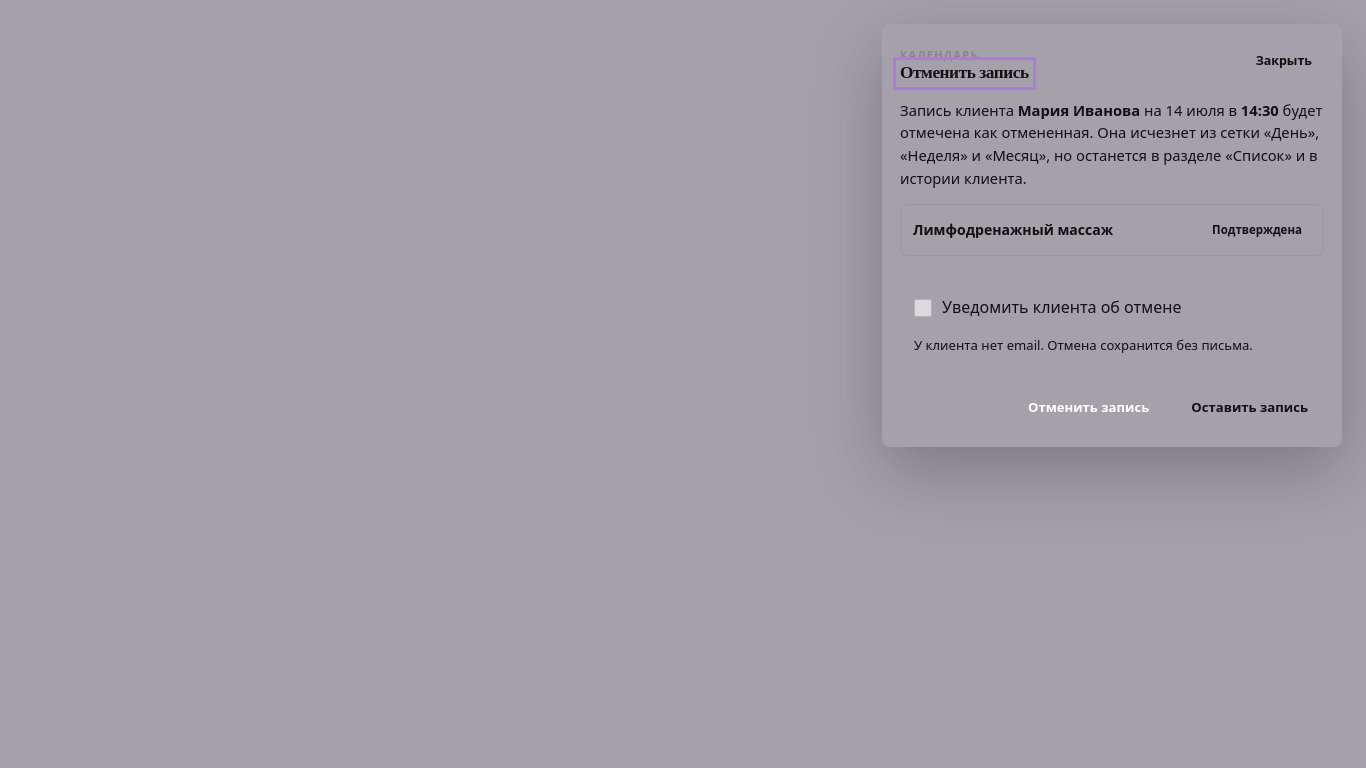
Test: CalendarAppointmentCancelDialog › keeps the cancellation dialog open when persistence fails
Click the button "Отменить запись" at {"x": 1089, "y": 407}, box [1012,385,1165,429]
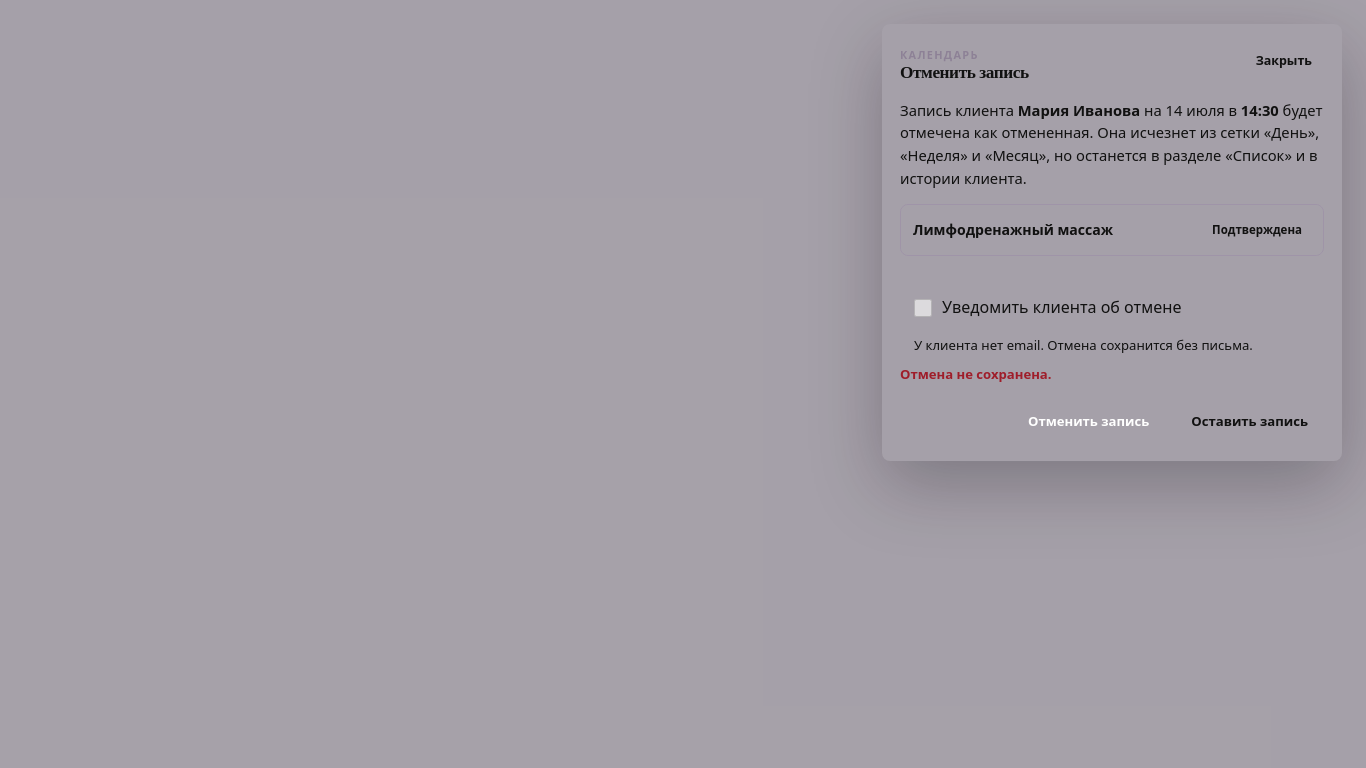
Now the message reads "Отмена не сохранена.", box [900,365,1052,383]
